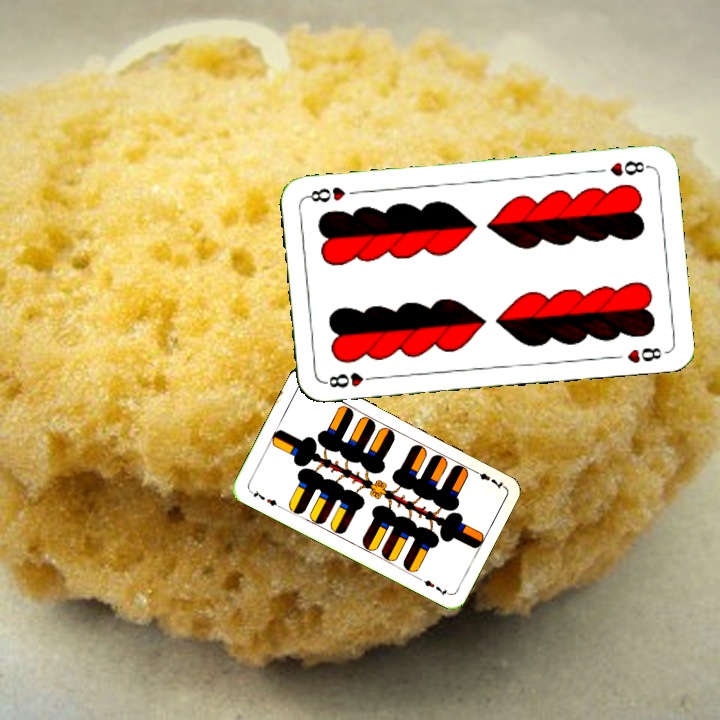E7: (468, 466, 506, 492), (246, 486, 284, 510)
H8: (320, 368, 380, 391), (606, 156, 652, 179)
